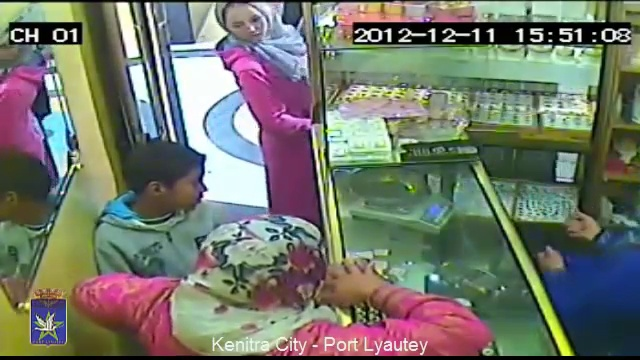face: (161, 156, 209, 218), (227, 3, 265, 46)
